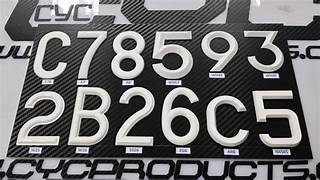number_plate: (11, 21, 309, 157)
